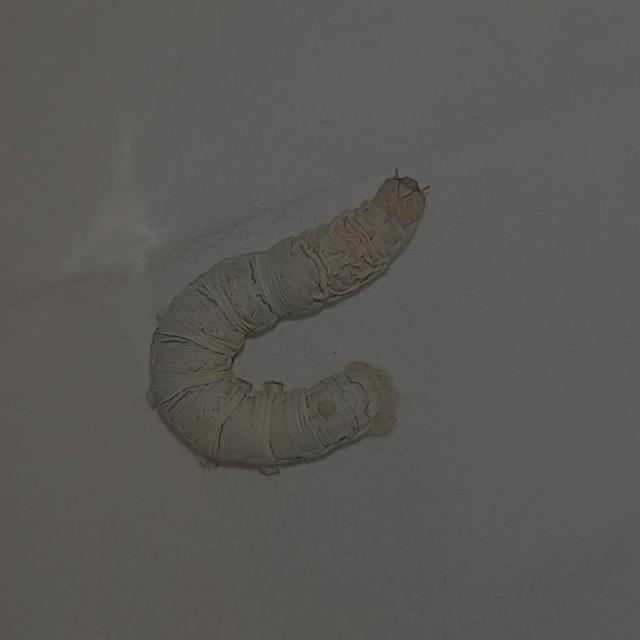Healthy: (131, 150, 449, 501)
